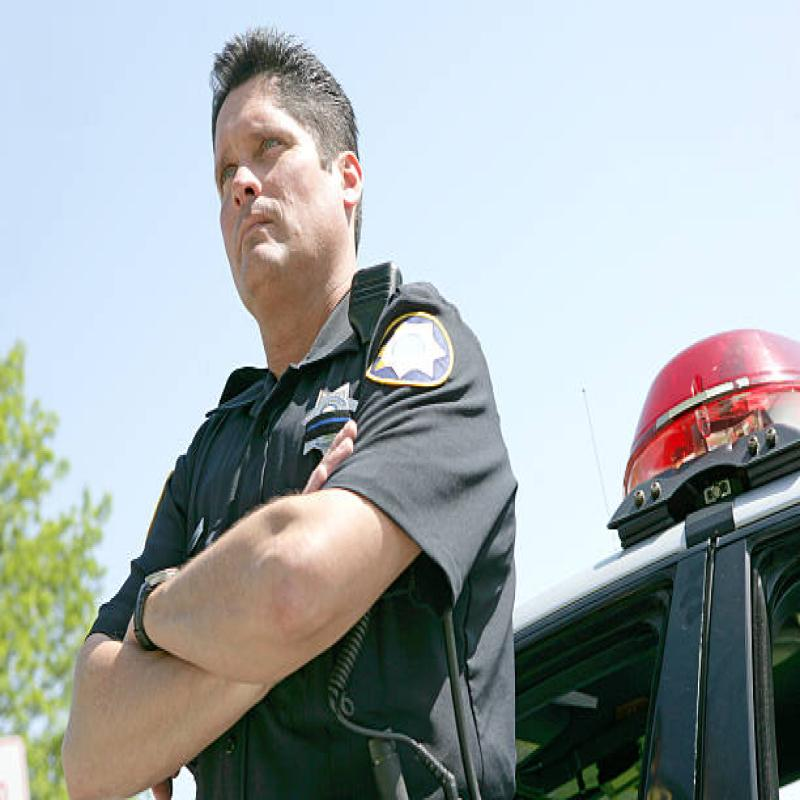AmbulanceSiren: (623, 309, 800, 431)
